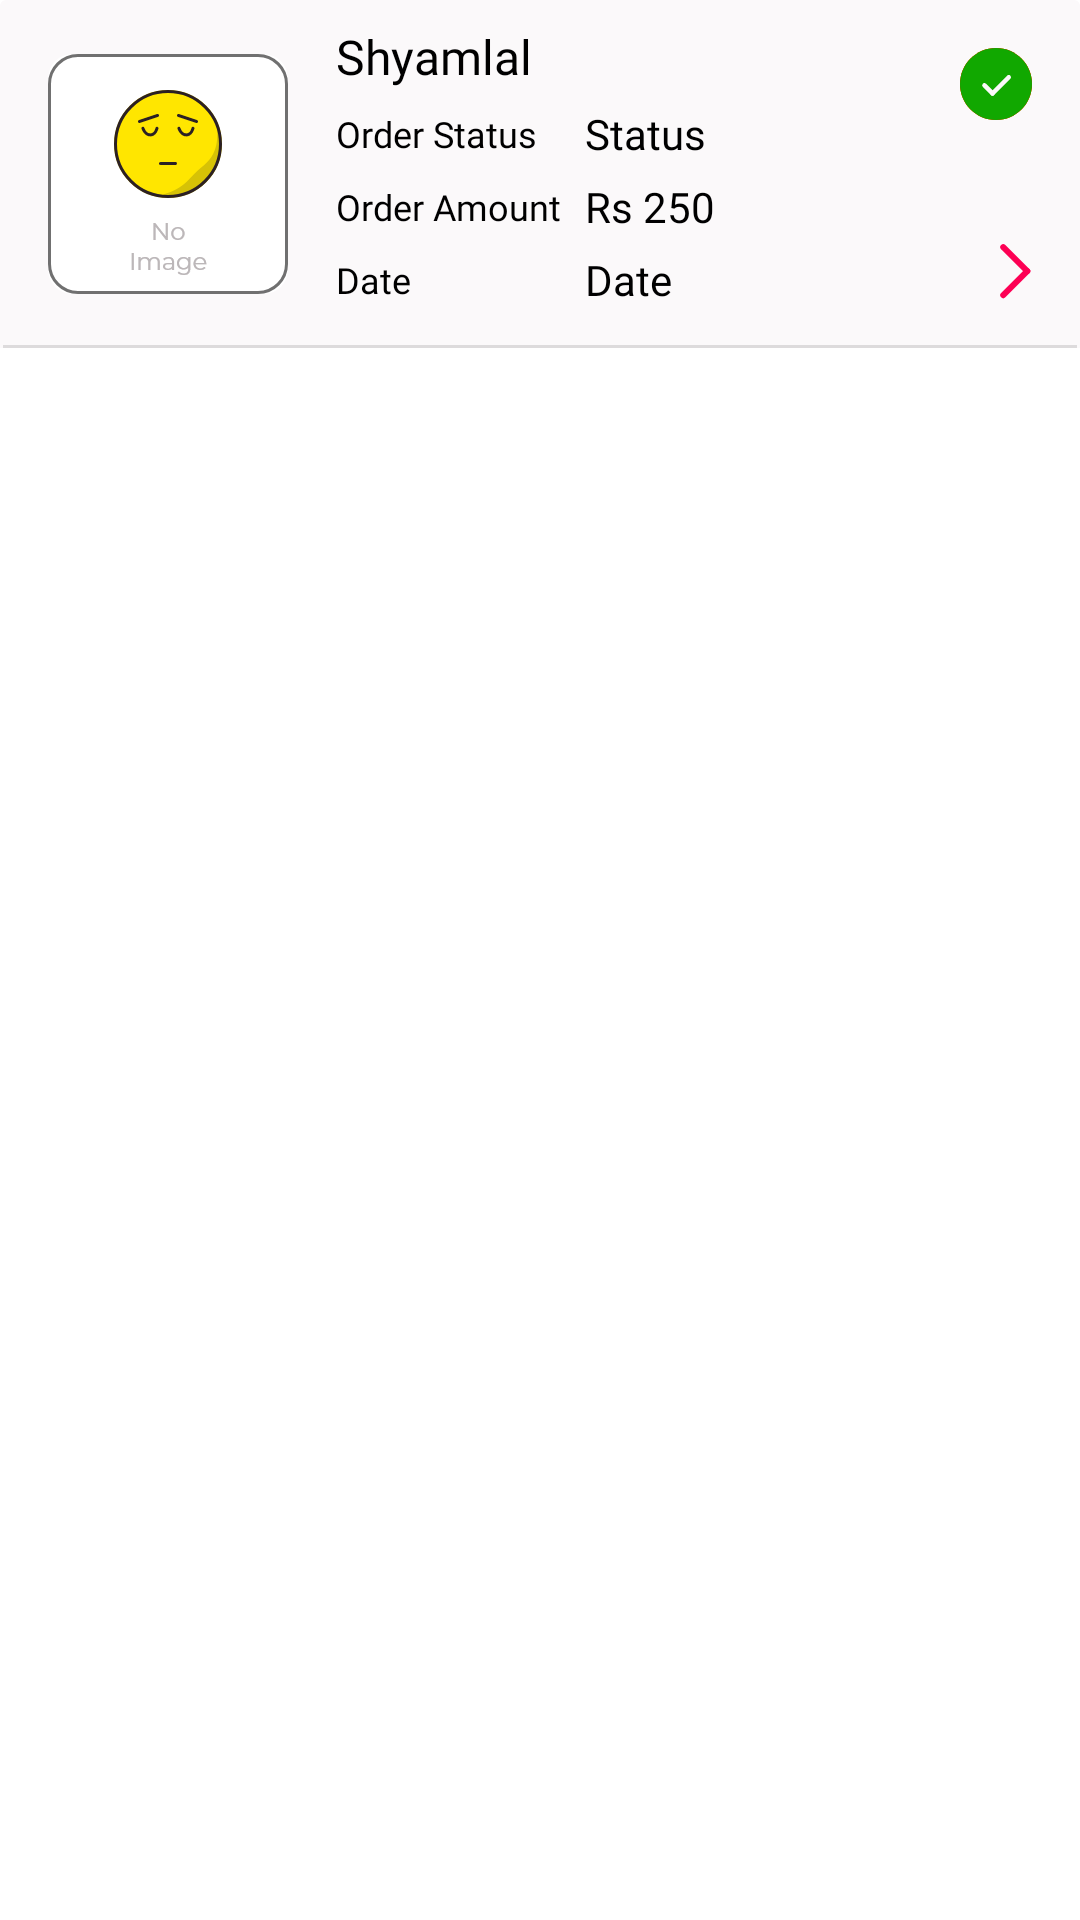

Screen size 1080x1920. Icon name, then its center in pixels as [x,y]:
arrow: [1015,271]
no shop: [168,174]
